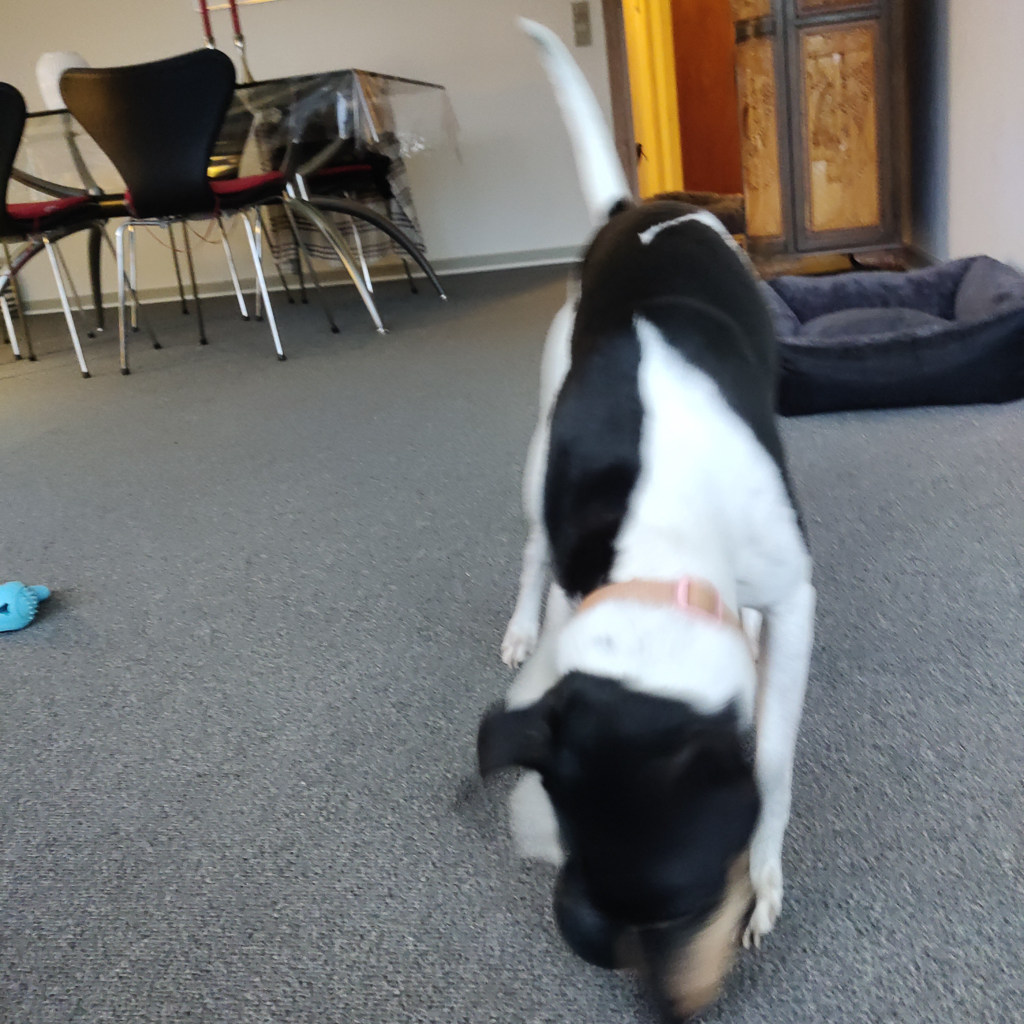Dog: (424, 11, 866, 1024)
